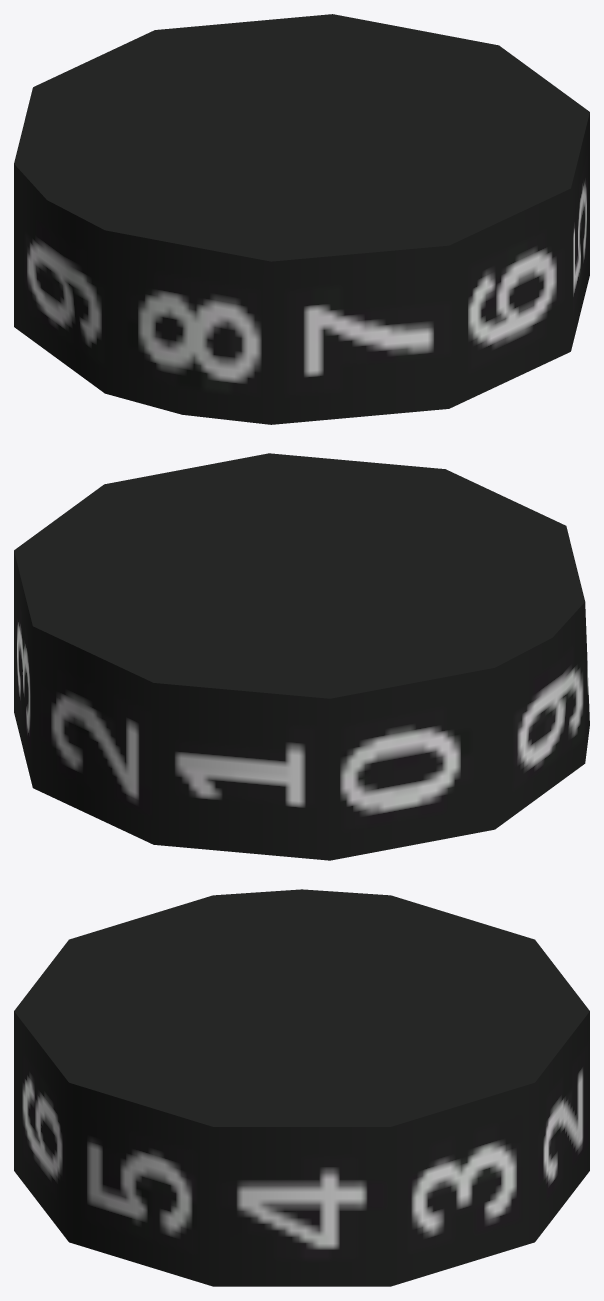
The model's file is nt_2020_wall_meter_numbers_LOD1.obj.
3 renders of one model, top to bottom at view 1: azimuth 30°, elevation 25°; view 2: azimuth 150°, elevation 25°; view 3: azimuth 270°, elevation 25°, orthographic. The views are drawn at different scales.
Visible parts, largest first — view 1: nt_2020_scrolling_numbers; view 2: nt_2020_scrolling_numbers; view 3: nt_2020_scrolling_numbers.
Part boxes in pixels (<box>): nt_2020_scrolling_numbers: <box>14,14,589,424</box>; nt_2020_scrolling_numbers: <box>14,453,589,860</box>; nt_2020_scrolling_numbers: <box>14,889,589,1286</box>.
Size of the model in its own units: 6.1 by 1.91 by 6.25.
